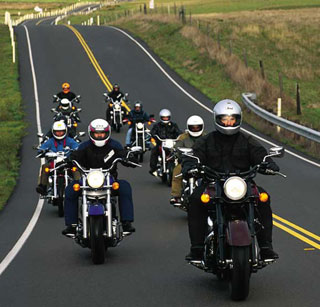helmet: (215, 99, 242, 131), (86, 121, 109, 148), (185, 114, 204, 135), (51, 119, 68, 140)
